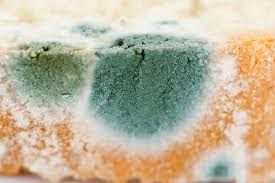mold_bread: (93, 34, 228, 151), (12, 39, 88, 107), (196, 149, 247, 183), (71, 20, 112, 38)
